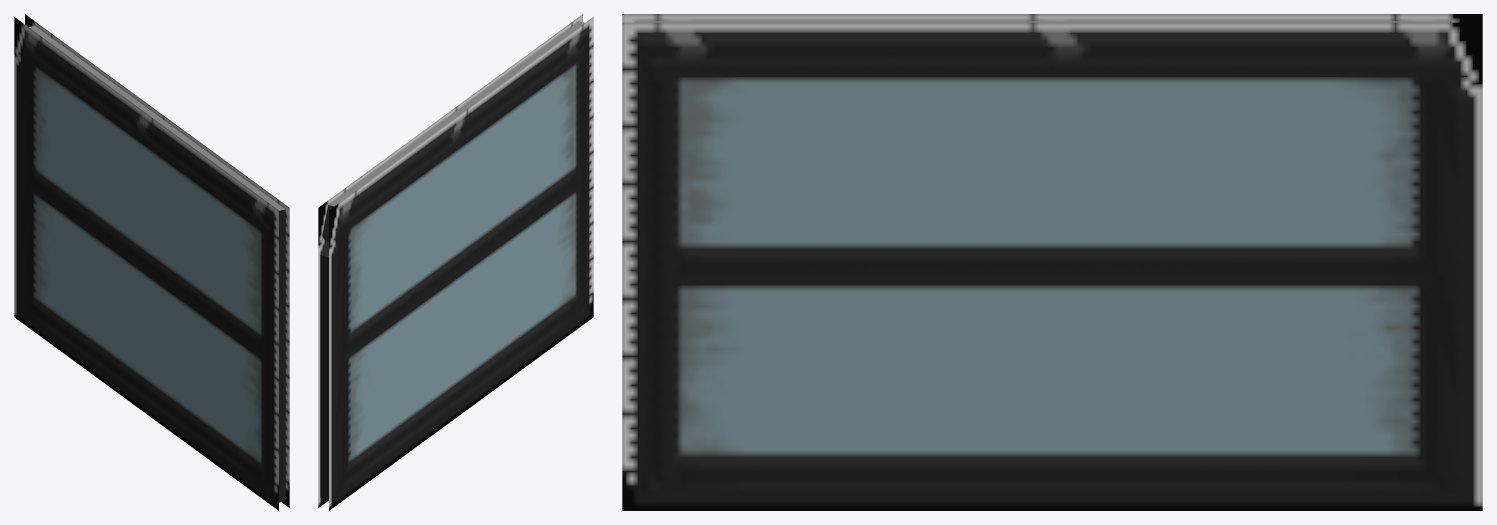
The model's file is pz_native_fixtures_windows_metal_8_frame.obj.
3 renders of one model, left to right at view 1: azimuth 30°, elevation 25°; view 2: azimuth 150°, elevation 25°; view 3: azimuth 270°, elevation 25°, orthographic. The views are drawn at different scales.
Visible parts, largest first — view 1: pz_native_fixtures_windows_metal_8_frame; view 2: pz_native_fixtures_windows_metal_8_frame; view 3: pz_native_fixtures_windows_metal_8_frame.
Boxes of the visible parts, bbox=[...] form: pz_native_fixtures_windows_metal_8_frame: bbox=[14, 14, 289, 510]; pz_native_fixtures_windows_metal_8_frame: bbox=[318, 14, 593, 510]; pz_native_fixtures_windows_metal_8_frame: bbox=[622, 14, 1482, 510].
Bounding box in the file's own units: 0.04 × 1.06 × 1.7.
Materials: 1 (1 with a texture image).
